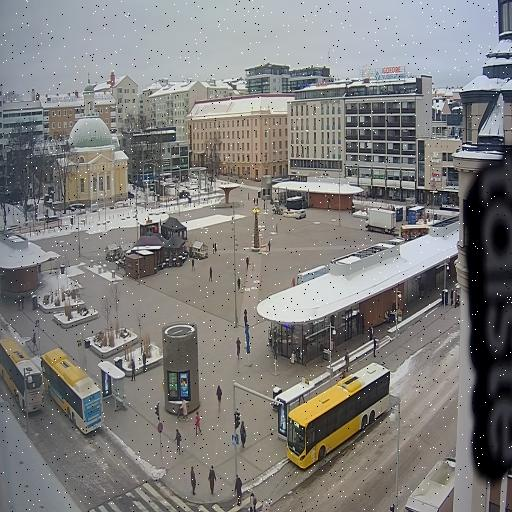Bus: (286, 363, 392, 472), (41, 348, 102, 431), (0, 338, 44, 418)
